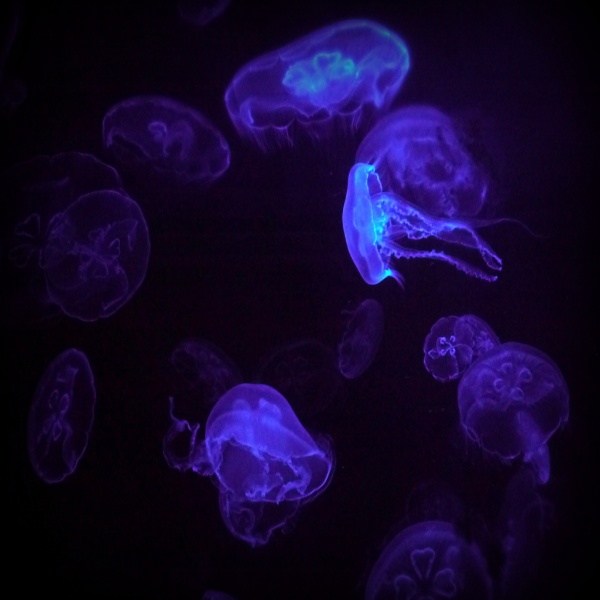Jellyfish: (9, 18, 570, 600)
